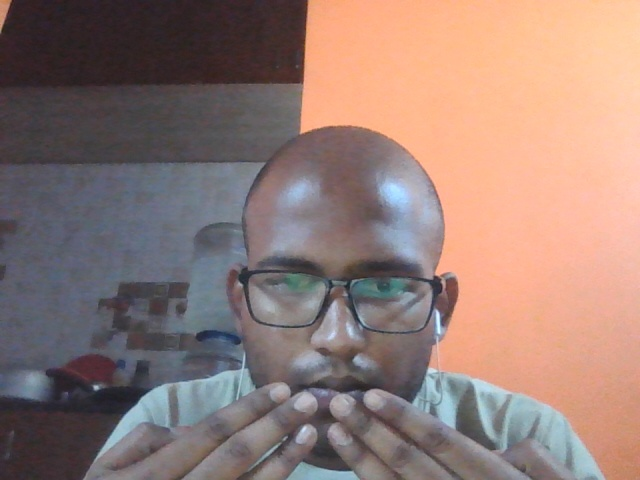thanks: (64, 366, 598, 480)
